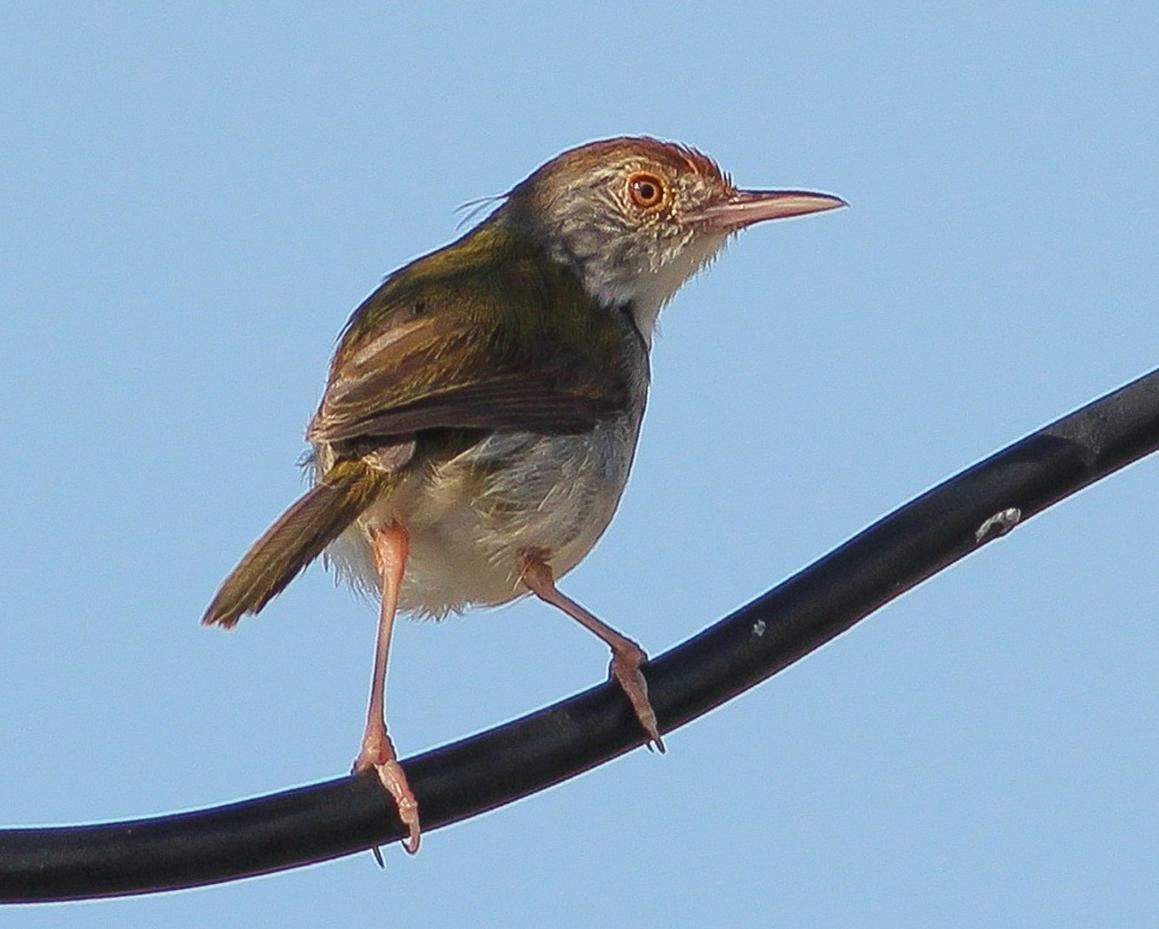tailorbird: (214, 105, 833, 810)
